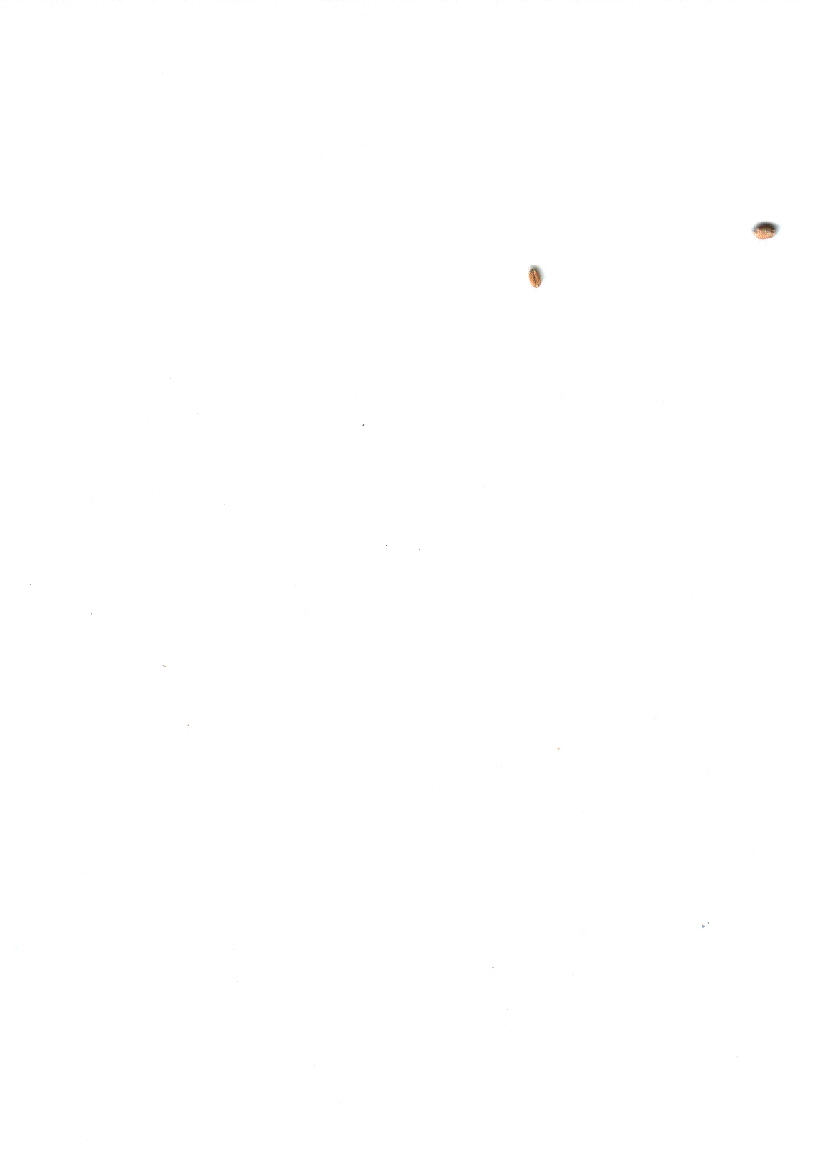grains: (744, 211, 789, 250), (518, 256, 553, 302)
